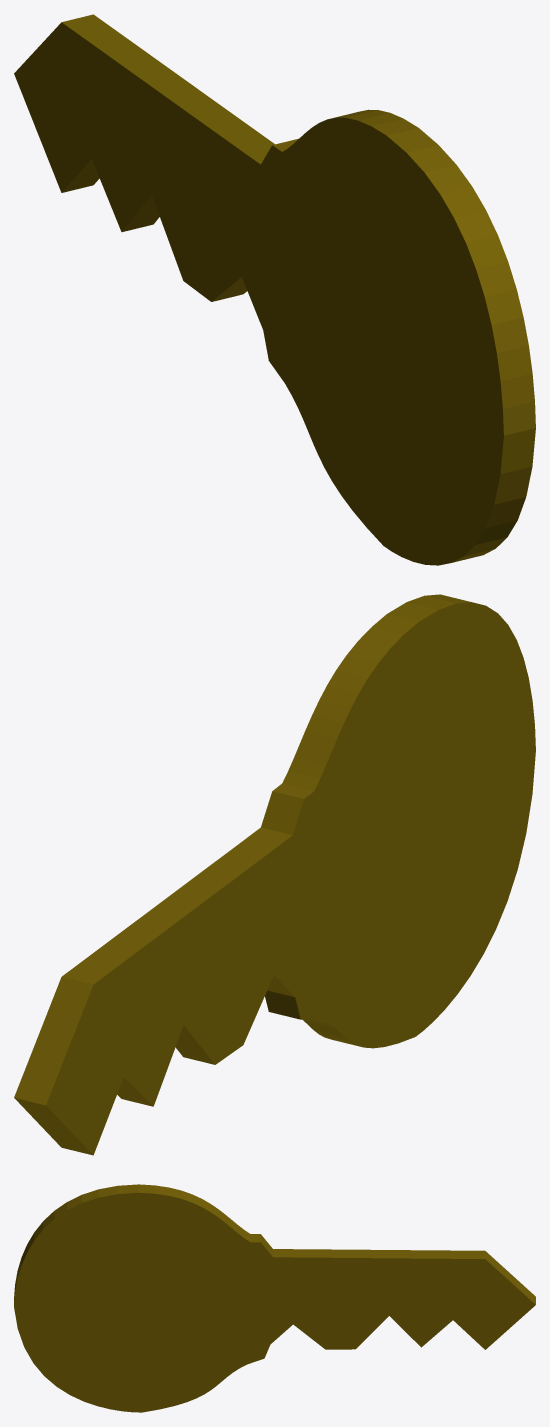
The model's file is Key.gltf.
3 renders of one model, top to bottom at view 1: azimuth 30°, elevation 25°; view 2: azimuth 150°, elevation 25°; view 3: azimuth 270°, elevation 25°, orthographic. The views are drawn at different scales.
Parts seen in each view (by area): view 1: Key; view 2: Key; view 3: Key.
Boxes of the visible parts, bbox=[...] form: Key: bbox=[14, 14, 535, 565]; Key: bbox=[14, 594, 535, 1155]; Key: bbox=[14, 1184, 535, 1412].
Size of the model in its own units: 0.018 by 0.222 by 0.4777.
